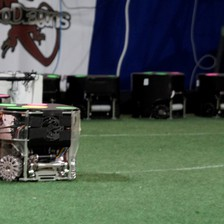robot: (1, 101, 82, 184), (127, 68, 187, 120), (63, 70, 120, 112), (191, 70, 223, 118)
